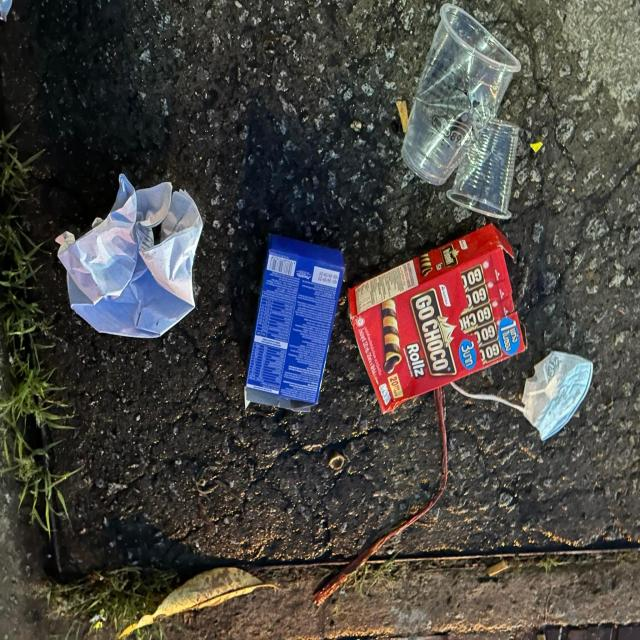cardboard box: (348, 222, 528, 414), (244, 233, 347, 411)
mask: (521, 351, 594, 443)
paper: (56, 173, 205, 340)
plastic glass: (401, 3, 521, 186), (445, 118, 520, 220)
